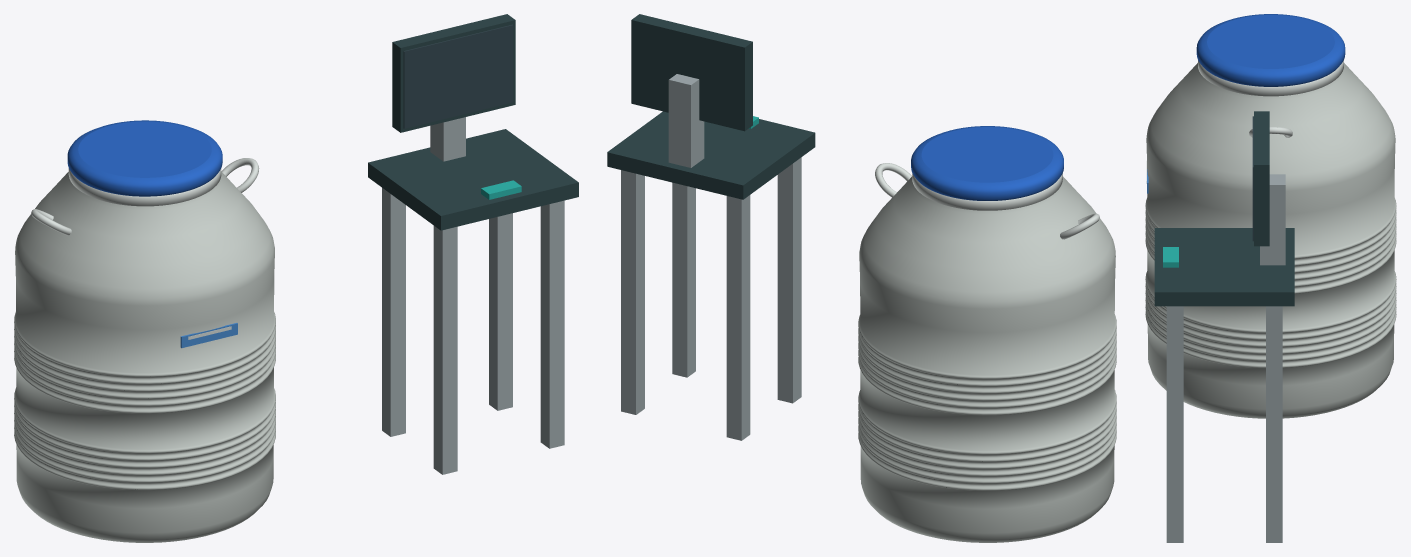
The model's file is worthington-ls6000-static.glb.
The picture shows the model from 3 angles, left to right: view 1: azimuth 30°, elevation 25°; view 2: azimuth 150°, elevation 25°; view 3: azimuth 270°, elevation 25°; orthographic projection. The views are drawn at different scales.
Parts seen in each view (by area): view 1: closed_external_barrel_shoulders, detached_packing_stand, fixed_blue_external_cap, detached_screen_glass, detached_stand_leg, detached_stand_leg.002, detached_stand_leg.001, detached_stand_leg.003, detached_poster_screen, upper_external_neck_trim, detached_poster_mount; view 2: closed_external_barrel_shoulders, detached_poster_screen, detached_packing_stand, fixed_blue_external_cap, detached_stand_leg.001, detached_stand_leg, detached_stand_leg.003, detached_stand_leg.002, detached_poster_mount, upper_external_neck_trim; view 3: closed_external_barrel_shoulders, detached_packing_stand, fixed_blue_external_cap, detached_stand_leg.002, detached_stand_leg.003, detached_poster_screen, detached_poster_mount, upper_external_neck_trim, detached_packing_switch.
Part boxes in pixels (box(x1,y1,x2,y2)): closed_external_barrel_shoulders: box(14, 171, 275, 542); detached_packing_stand: box(368, 129, 578, 230); fixed_blue_external_cap: box(67, 120, 222, 196); detached_screen_glass: box(403, 24, 513, 128); detached_stand_leg: box(433, 225, 457, 474); detached_stand_leg.002: box(540, 200, 564, 448); detached_stand_leg.001: box(382, 188, 405, 436); detached_stand_leg.003: box(489, 213, 512, 410); detached_poster_screen: box(392, 14, 515, 132); upper_external_neck_trim: box(68, 168, 221, 206); detached_poster_mount: box(430, 117, 465, 161); closed_external_barrel_shoulders: box(858, 176, 1116, 542); detached_poster_screen: box(631, 14, 752, 131); detached_packing_stand: box(607, 111, 815, 199); fixed_blue_external_cap: box(911, 126, 1063, 200); detached_stand_leg.001: box(726, 195, 750, 440); detached_stand_leg: box(777, 157, 801, 403); detached_stand_leg.003: box(621, 170, 644, 414); detached_stand_leg.002: box(672, 182, 695, 377); detached_poster_mount: box(668, 74, 704, 167); upper_external_neck_trim: box(912, 173, 1062, 210); closed_external_barrel_shoulders: box(1145, 63, 1396, 418); detached_packing_stand: box(1154, 228, 1294, 306); fixed_blue_external_cap: box(1196, 14, 1345, 86); detached_stand_leg.002: box(1166, 306, 1183, 542); detached_stand_leg.003: box(1266, 306, 1282, 542); detached_poster_screen: box(1254, 111, 1269, 246); detached_poster_mount: box(1260, 174, 1285, 265); upper_external_neck_trim: box(1198, 60, 1343, 96); detached_packing_switch: box(1163, 247, 1178, 267).
Size of the model in its own units: 1.46 by 1.13 by 0.683.
